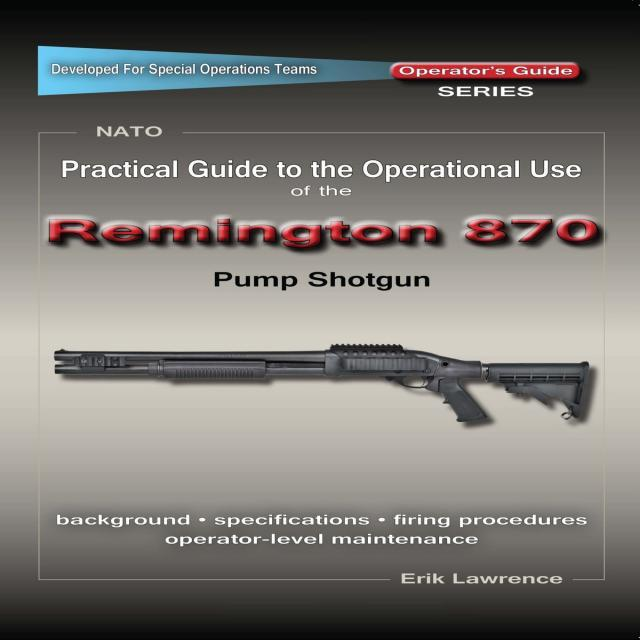shotgun: (41, 336, 601, 439)
